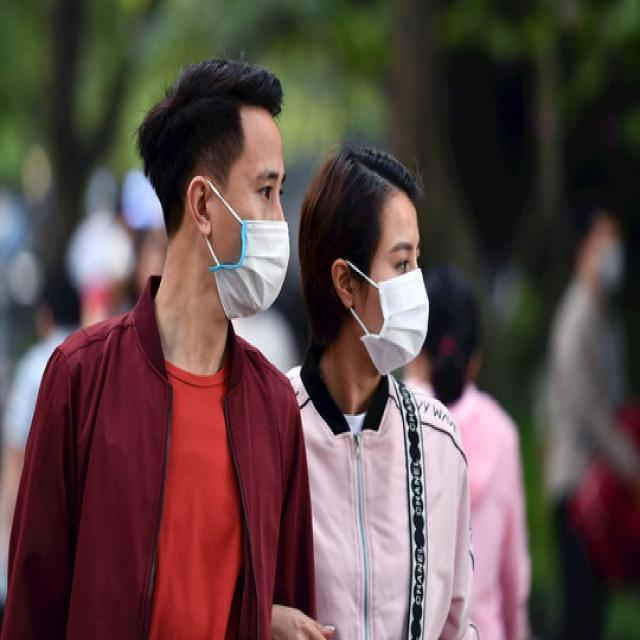Nonhelmet: (132, 52, 292, 326), (296, 122, 441, 373)
